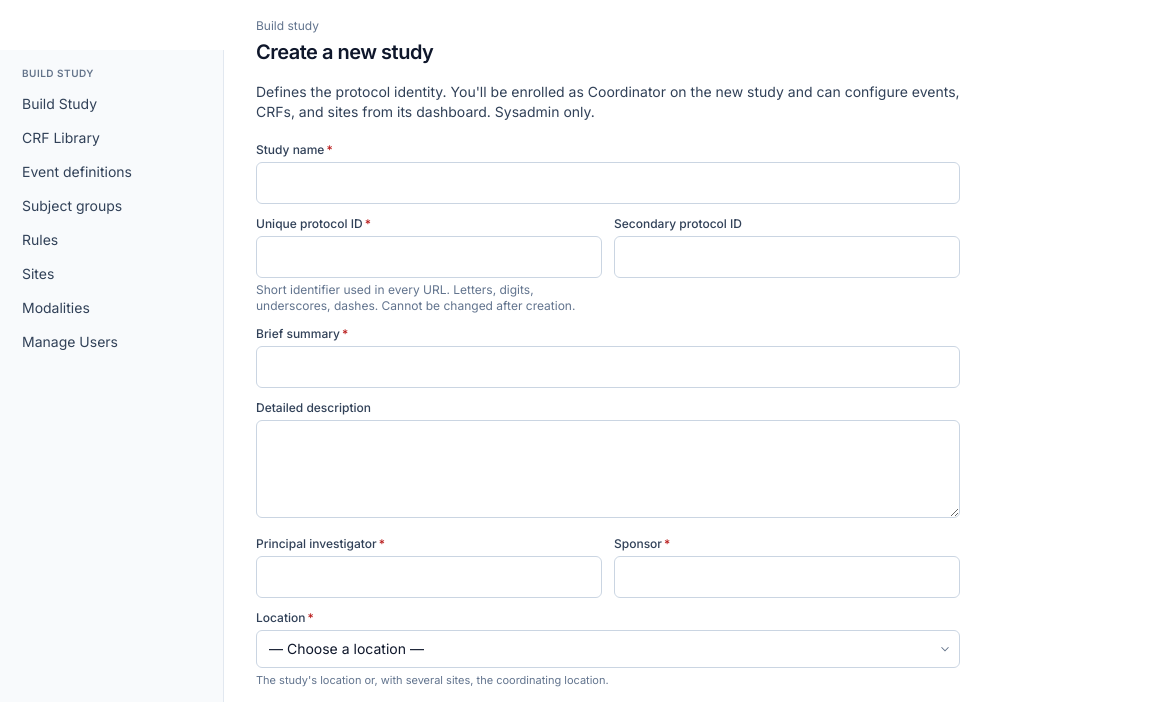
Scenario: CreateStudyView — Standort (DR-040 phase 4) › requires a Standort in multi mode and names the coordinating location in its hint
Expected: the element with test id "study-location-field" shows "Location", [256,610,306,625]
Expected: the element with test id "study-location-field" shows "The study's location or, with several sites, the coordinating location.", [256,673,609,687]
Step 1. Type "Glaucoma Cohort" into the field with id "study-name" → (608, 183), box [256,162,960,204]
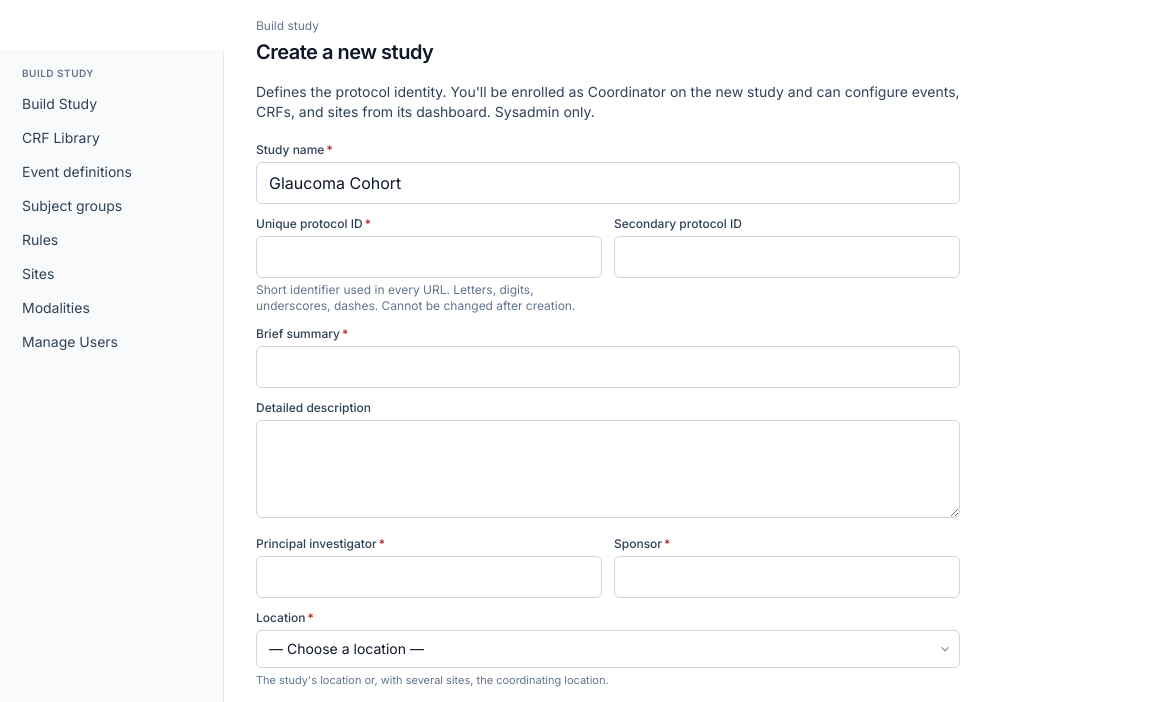
Step 2. Type "GLAU01" into the field with id "study-uid" → (429, 257), box [256,236,602,278]
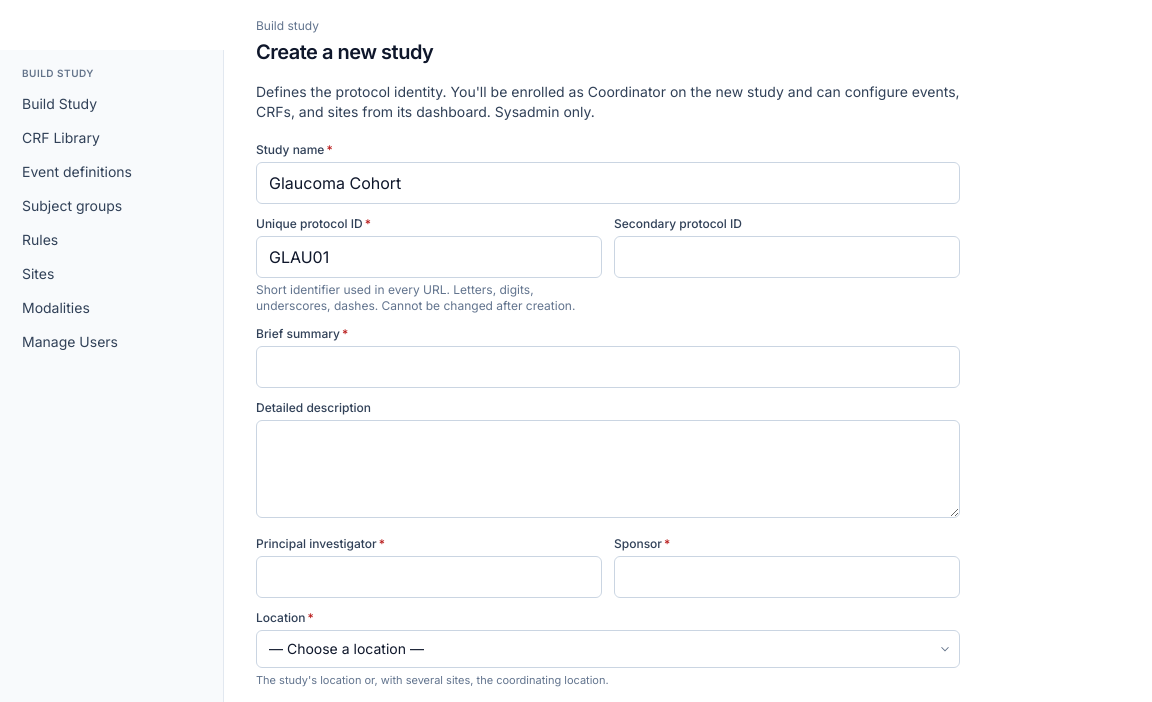
Step 3. Type "A study" into the field with id "study-summary" → (608, 367), box [256,346,960,388]
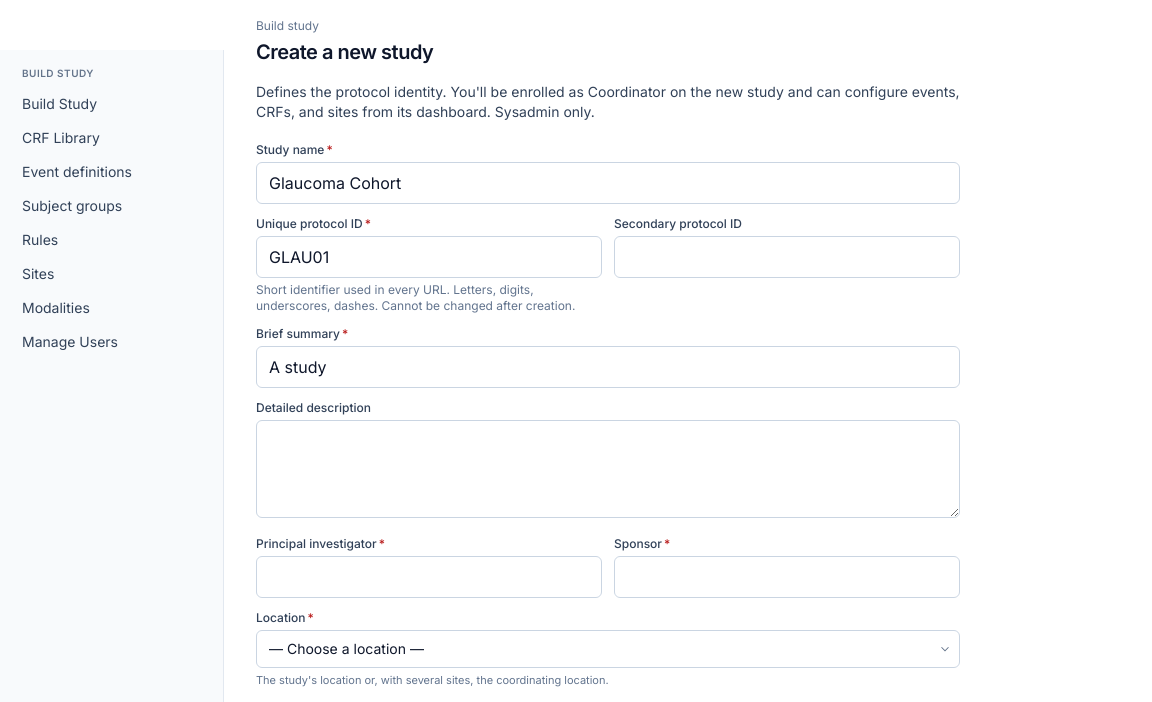
Step 4. Type "Dr. Vision" into the field with id "study-pi" → (429, 577), box [256,556,602,598]
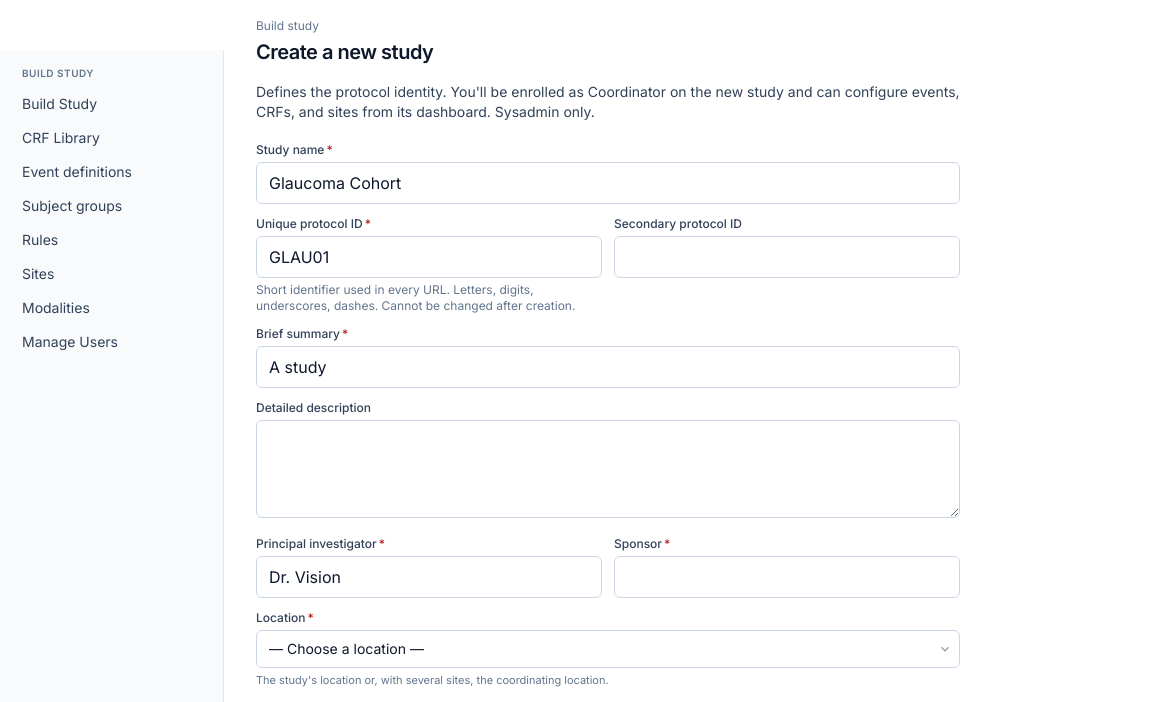
Step 5. Type "MUW" into the field with id "study-sponsor" → (787, 577), box [614,556,960,598]
(page scrolled)
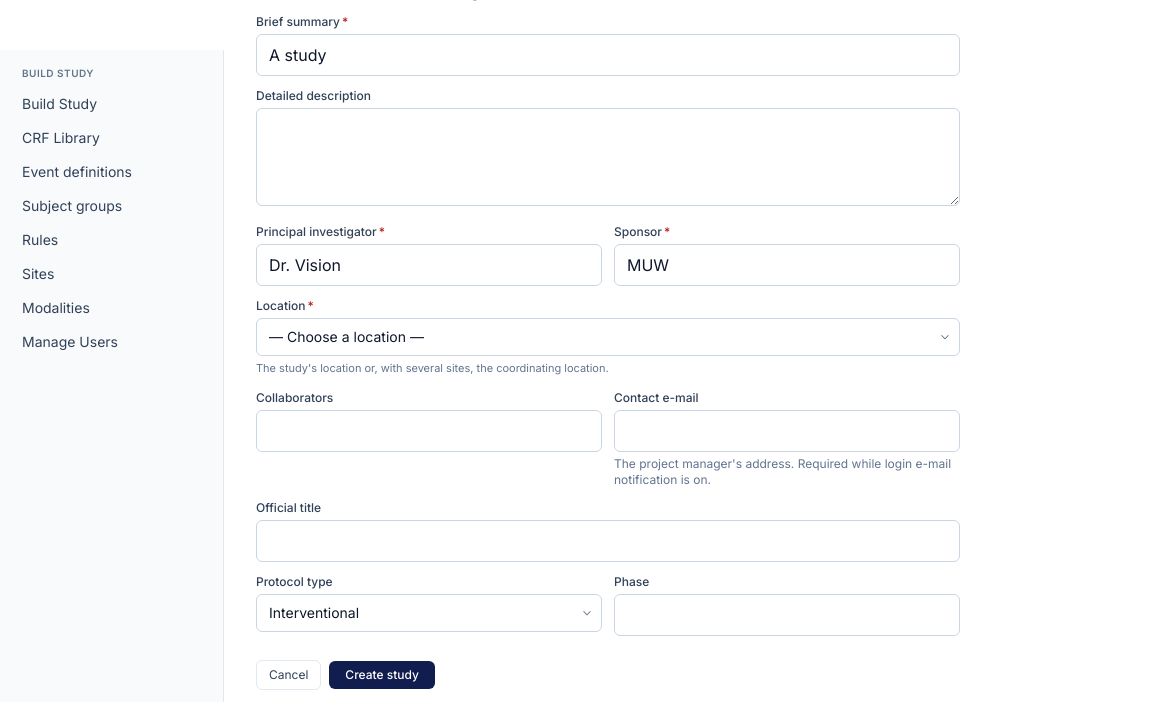
Step 6. Click the button "Create study" → (382, 675), box [329,661,435,689]
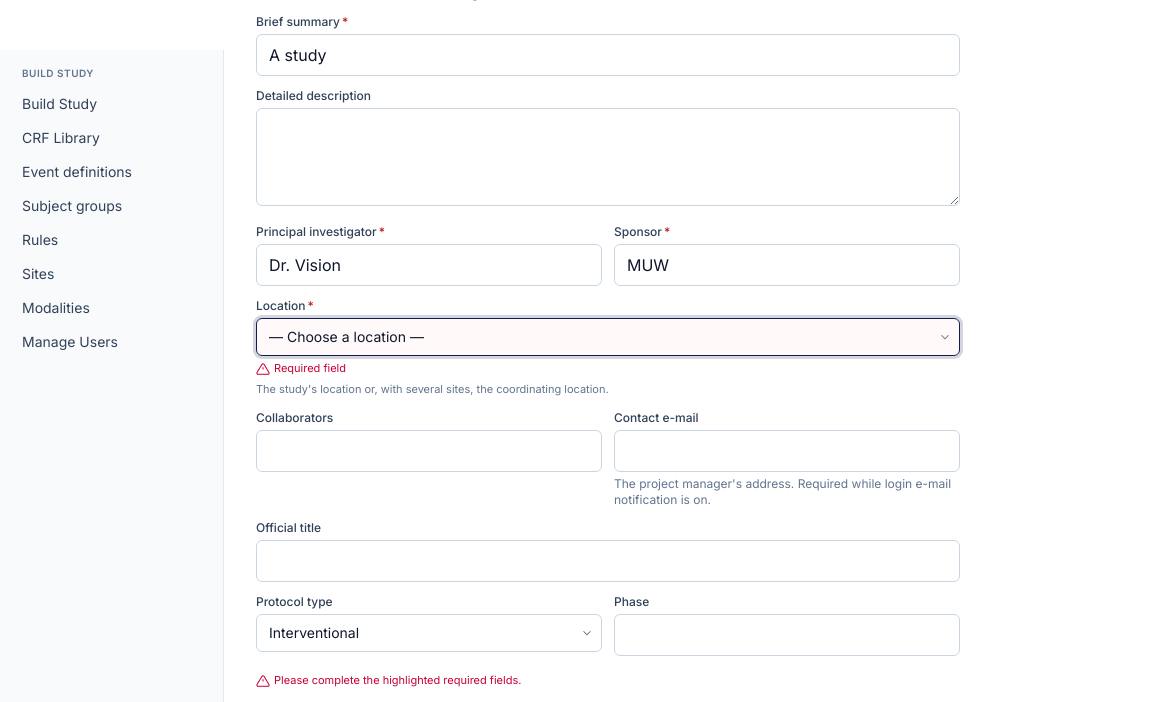
Expected: the message with test id "study-location-error" reads "Required field", [274,361,346,375]
